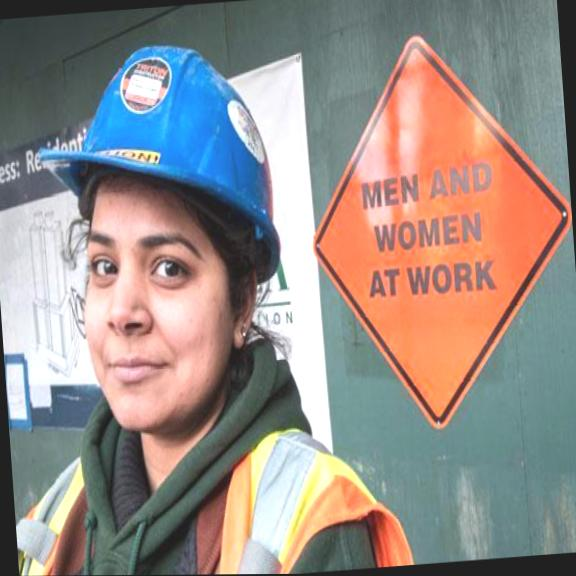safety_vest: (10, 409, 408, 576)
